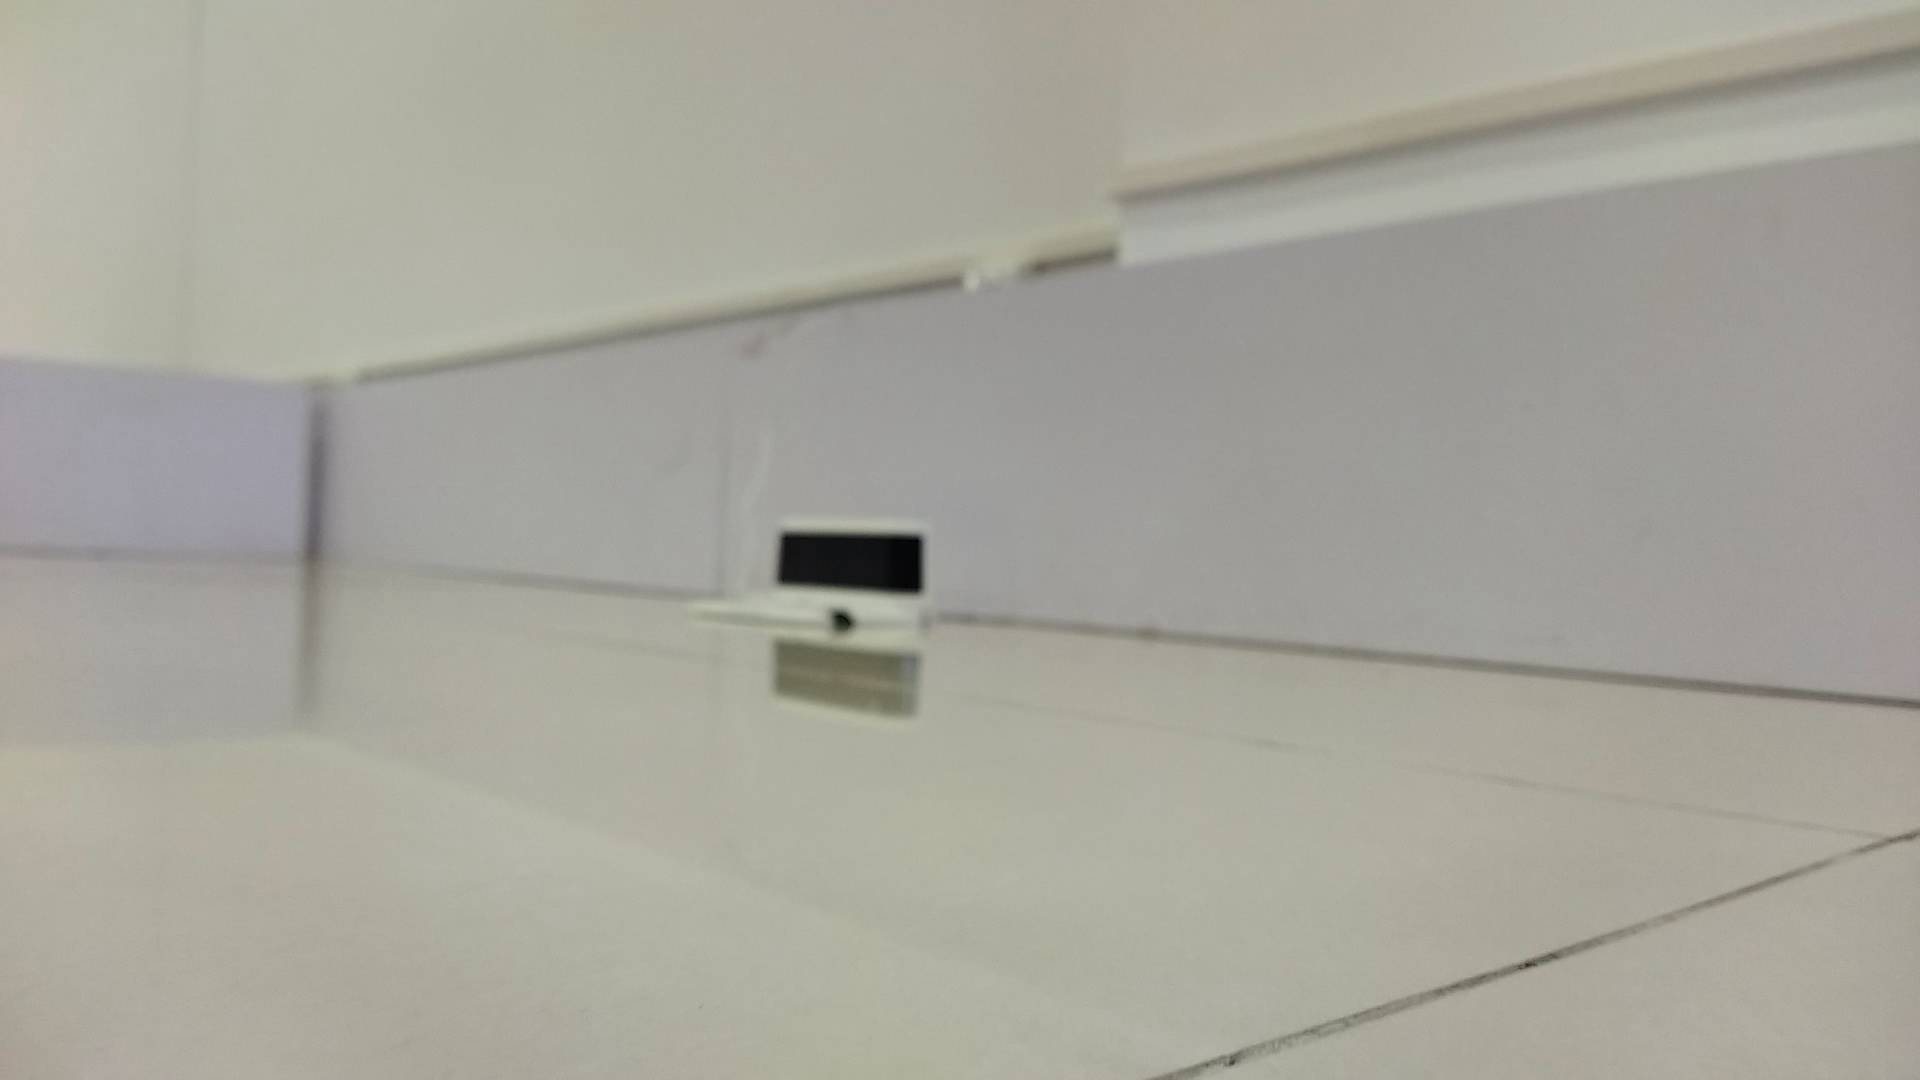recharge seat: (690, 516, 938, 628)
